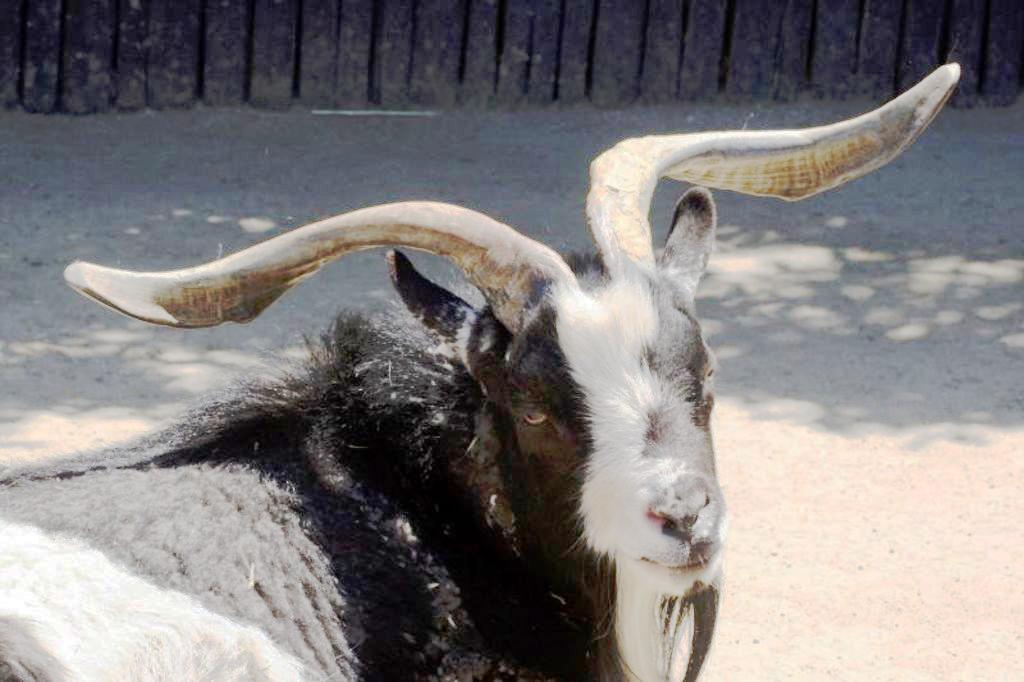Sheep: (0, 61, 960, 680)
